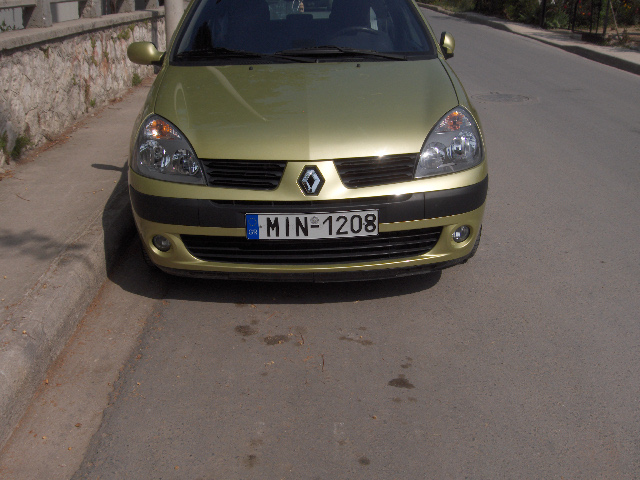licenseplate: (245, 209, 379, 240)
